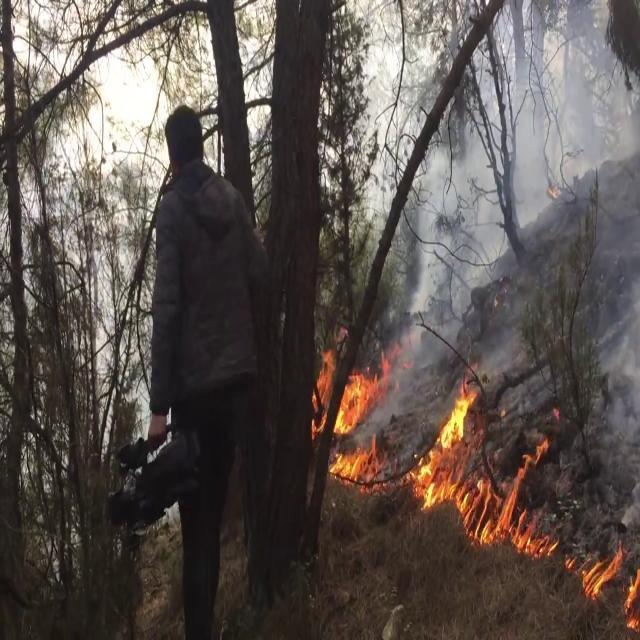Fire: (406, 378, 558, 550), (567, 522, 640, 638), (336, 371, 376, 434), (328, 444, 379, 487), (583, 548, 622, 597)
Smoke: (371, 66, 640, 372), (575, 317, 640, 498)
